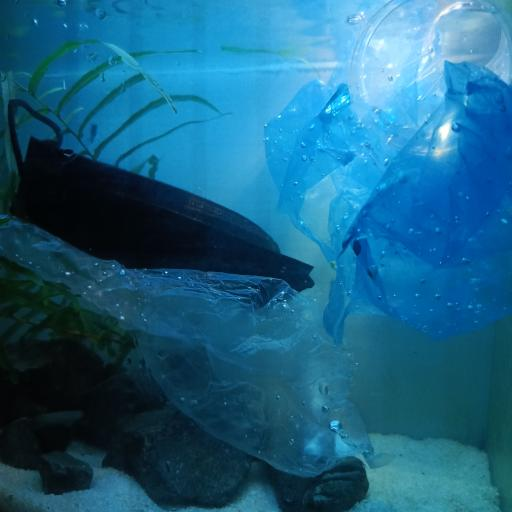mask: (1, 93, 316, 312)
plastic_bag: (0, 218, 379, 477), (263, 65, 512, 345)
plastic_cup: (352, 0, 512, 152)
